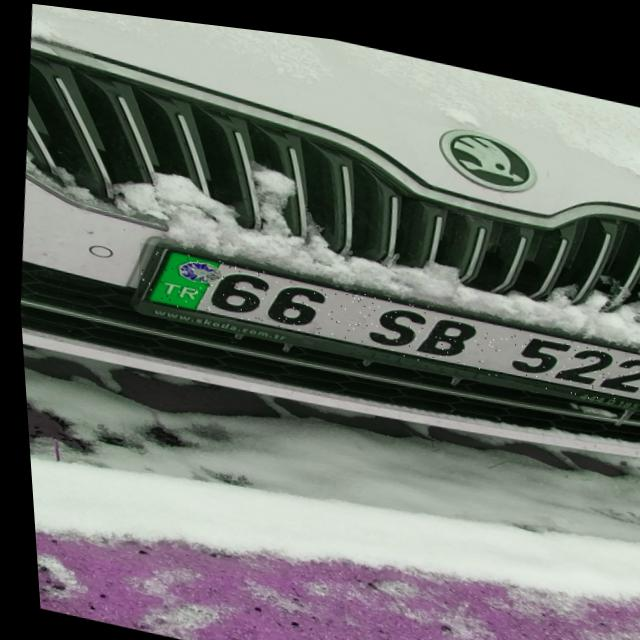license_plate: (130, 238, 640, 398)
